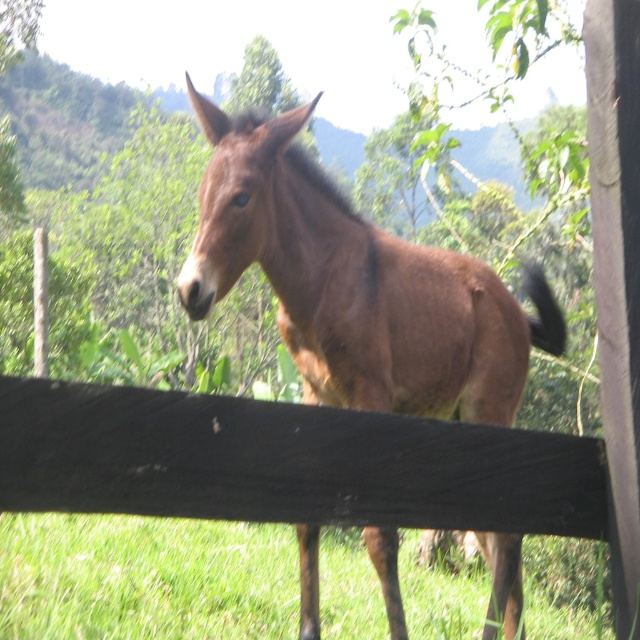Mule: (177, 70, 571, 640)
